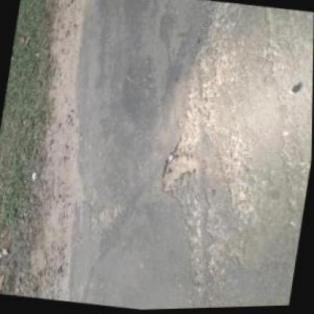Hueco: (159, 146, 204, 198)
